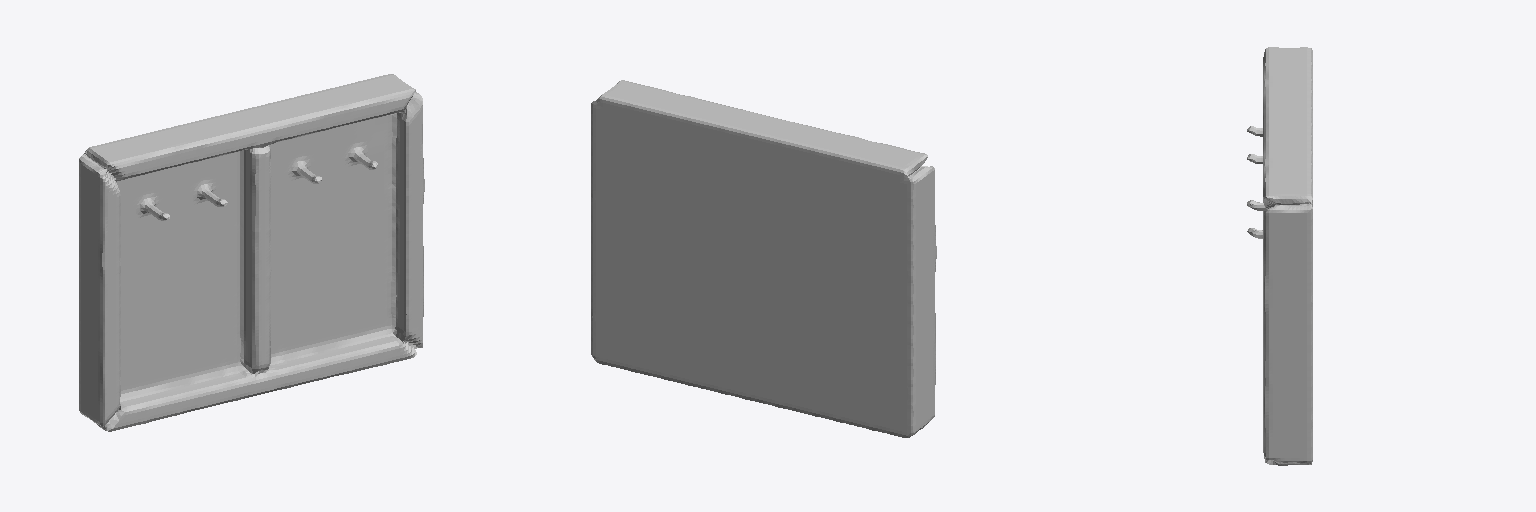
The model's file is BackBoard_QUADPM3D_Cylinder3D_4.OBJ.
The picture shows the model from 3 angles: view 1: azimuth 30°, elevation 25°; view 2: azimuth 150°, elevation 25°; view 3: azimuth 270°, elevation 25°; orthographic projection.
Visible parts, largest first — view 1: ZBrushPolyMesh3D; view 2: ZBrushPolyMesh3D; view 3: ZBrushPolyMesh3D.
Boxes of the visible parts, x1=… form: ZBrushPolyMesh3D: x1=79, y1=74, x2=424, y2=431; ZBrushPolyMesh3D: x1=591, y1=80, x2=936, y2=437; ZBrushPolyMesh3D: x1=1247, y1=47, x2=1312, y2=465.
Size of the model in its own units: 1.51 by 1.2 by 0.2661.